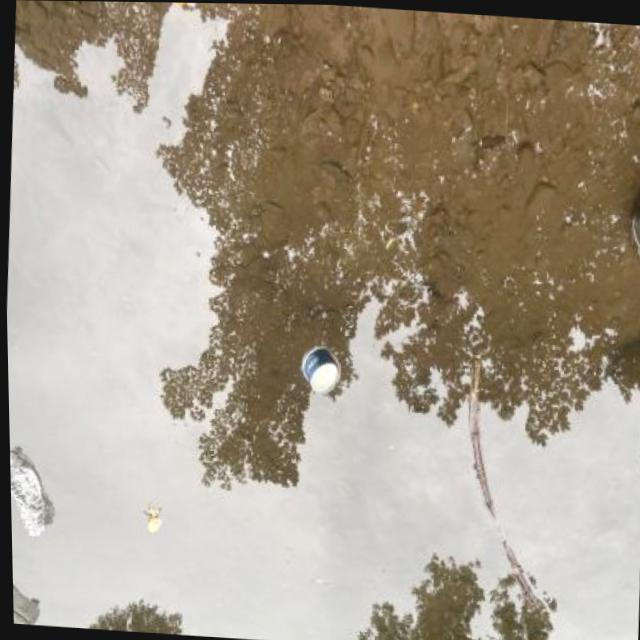Paper: (292, 339, 344, 401)
Plastic: (8, 442, 57, 548), (10, 574, 39, 624), (630, 391, 640, 487)
